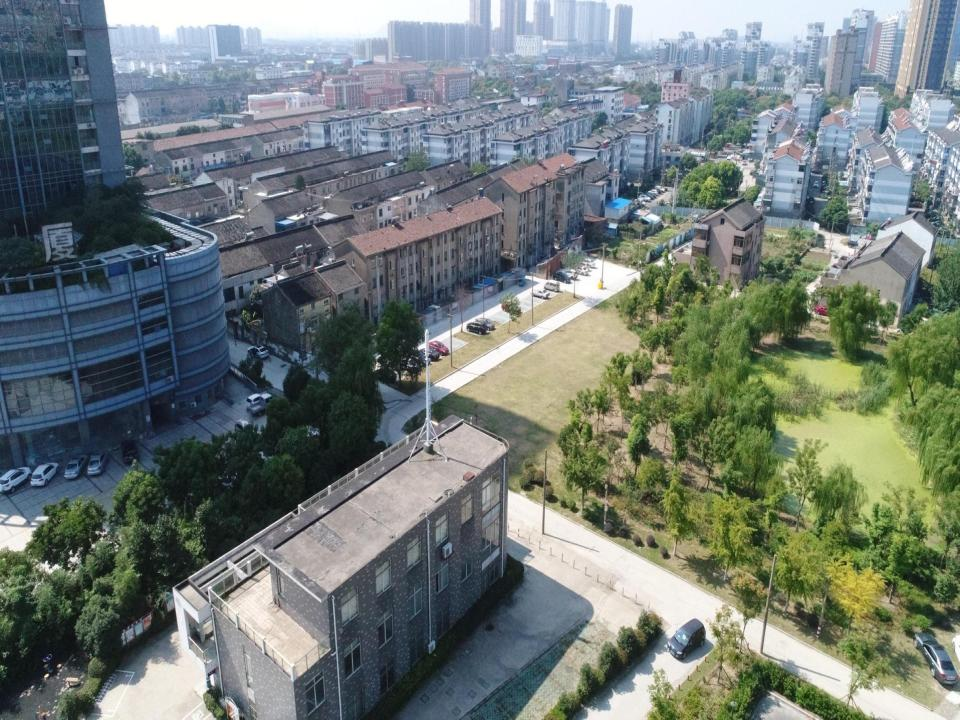car: (913, 629, 959, 685), (666, 617, 706, 662), (0, 465, 31, 493), (31, 459, 58, 488), (63, 452, 87, 478), (86, 448, 108, 476), (120, 437, 140, 464), (234, 419, 257, 440), (409, 348, 430, 366), (244, 391, 264, 408), (248, 342, 269, 358), (396, 357, 420, 371), (427, 340, 449, 355), (500, 300, 522, 314), (465, 322, 488, 335), (420, 346, 440, 360), (814, 304, 835, 317), (475, 317, 495, 330), (531, 287, 550, 299), (552, 272, 570, 284), (573, 265, 588, 276), (579, 258, 595, 268), (564, 268, 577, 280), (847, 239, 861, 248), (574, 262, 588, 270), (638, 194, 651, 202), (633, 198, 646, 206), (644, 192, 653, 200), (646, 191, 656, 198), (655, 185, 665, 192), (647, 189, 658, 195), (813, 180, 819, 188), (726, 156, 732, 164), (742, 159, 746, 165)
truck: (248, 393, 273, 414)
van: (543, 280, 560, 292), (676, 172, 682, 178)
